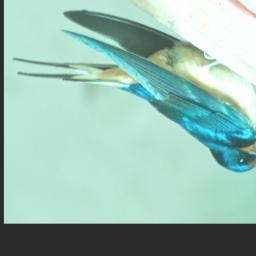Swallow: (12, 8, 256, 175)
